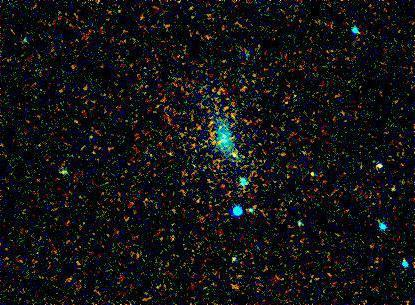star: (219, 139, 249, 169)
